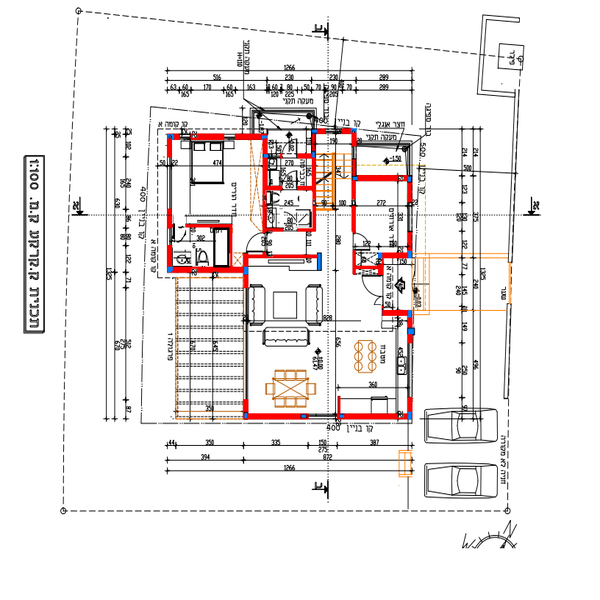room: (241, 254, 347, 420), (167, 133, 267, 274), (343, 310, 415, 422), (261, 128, 317, 230), (353, 174, 414, 263)
